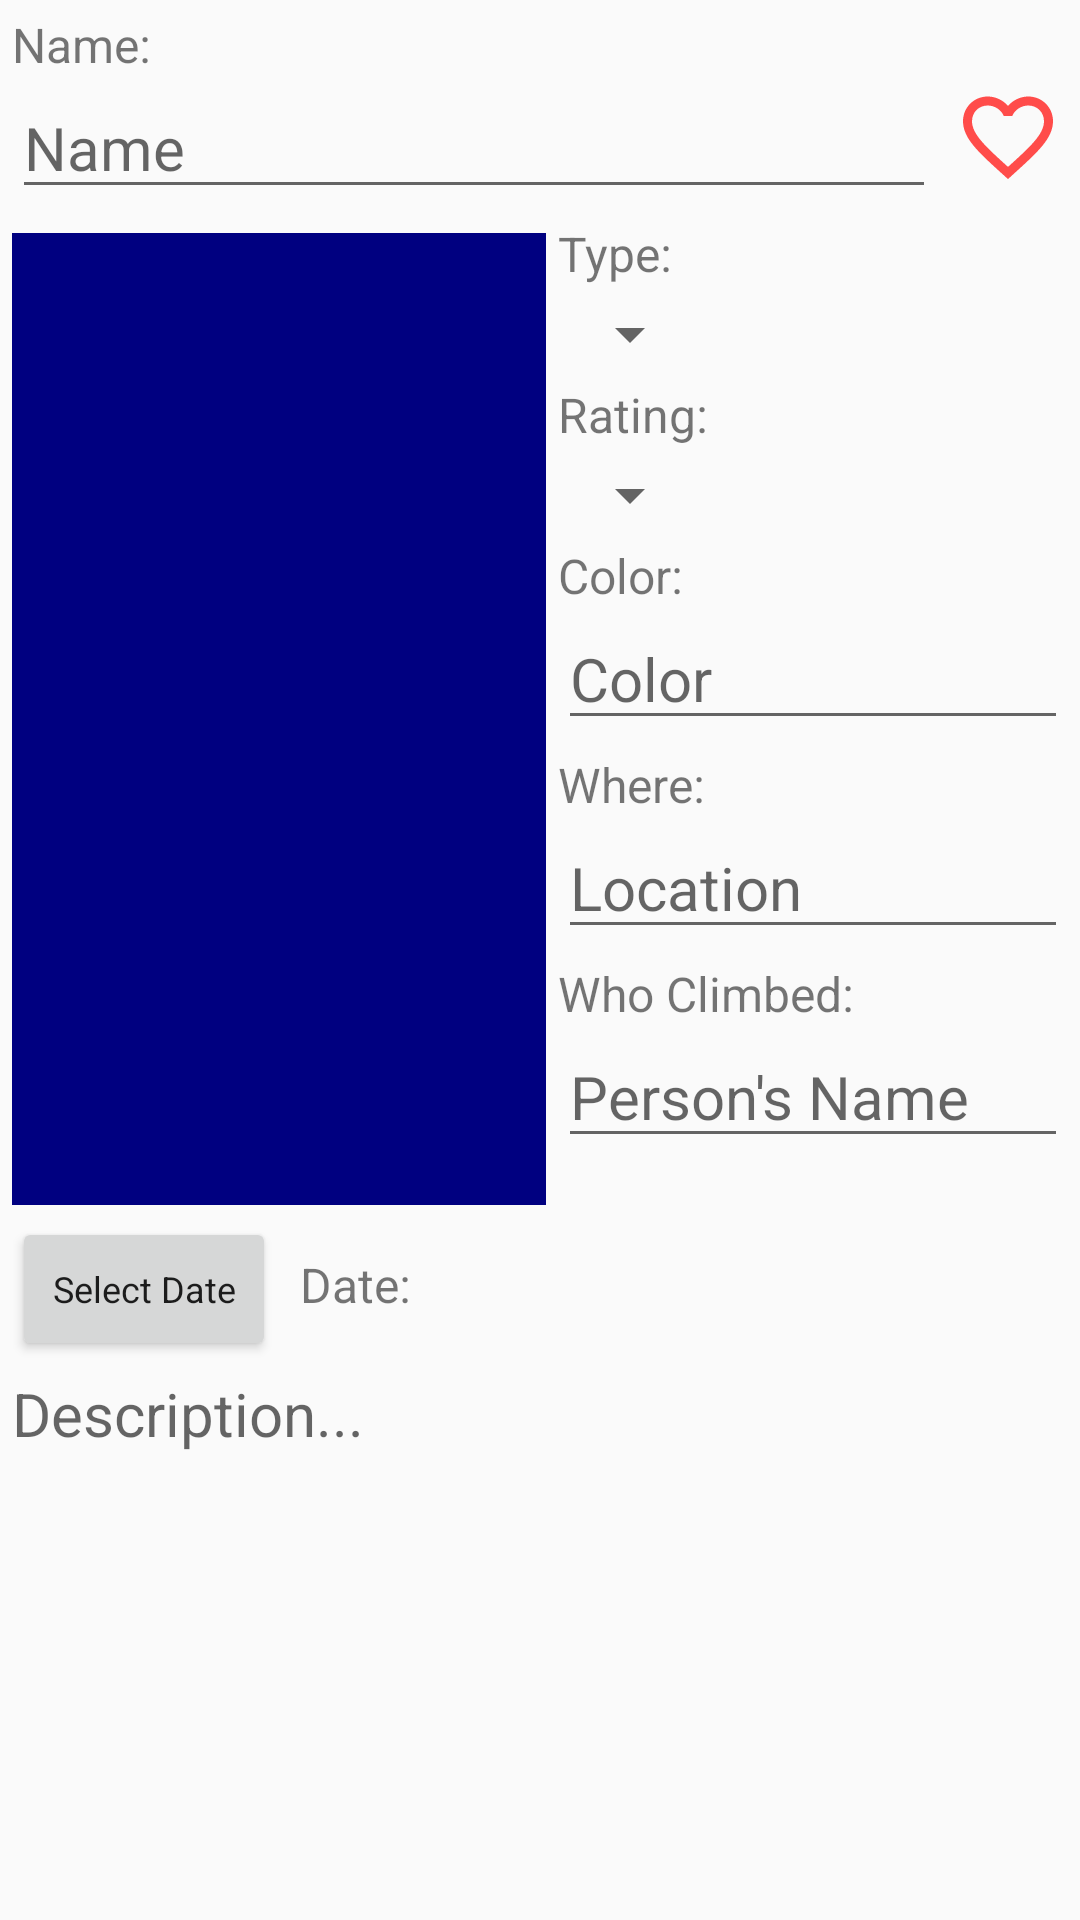

Icons on this 1080px x 1920px Android screen, each with its box as (x1, y1, x2, y2):
favorite border: (963, 96, 1053, 179)
